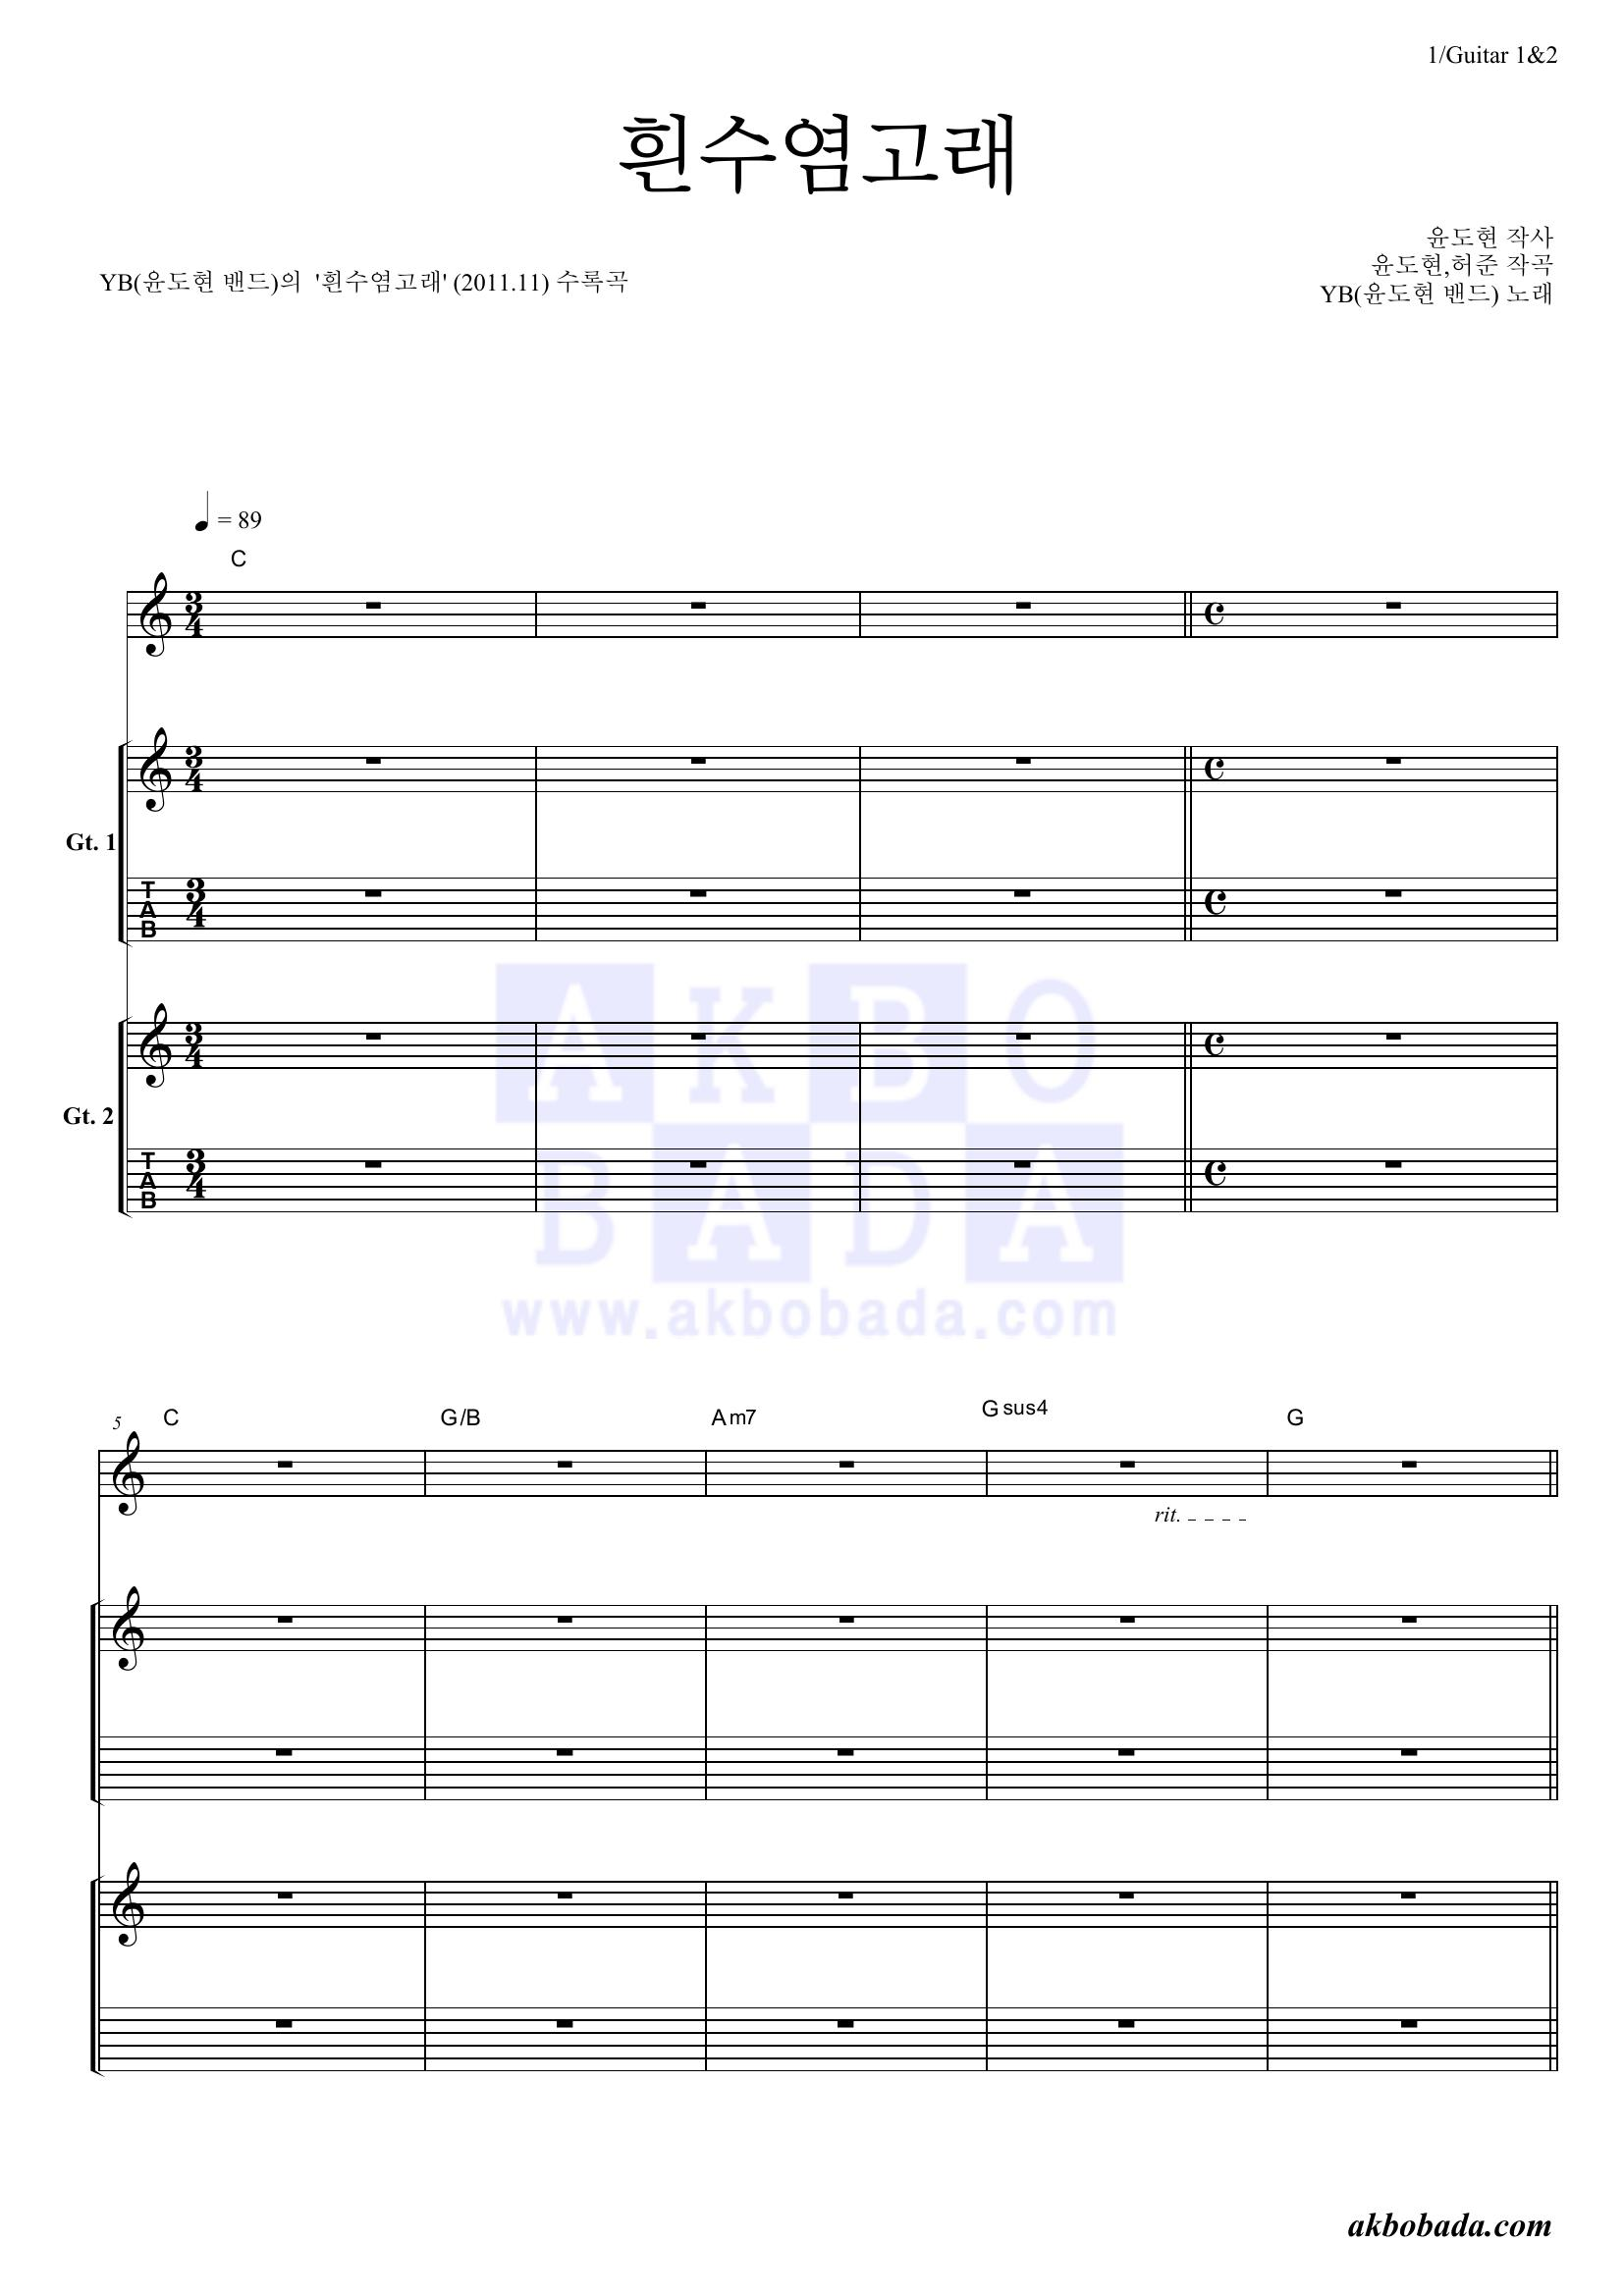four: (195, 490, 211, 531)
four_shim: (1016, 603, 1032, 611), (367, 603, 380, 610), (692, 603, 707, 608)
high: (139, 727, 172, 813), (141, 1005, 174, 1089), (142, 573, 174, 659)
low: (1204, 754, 1227, 782), (1204, 889, 1227, 917), (1204, 601, 1225, 629), (1204, 1161, 1227, 1186), (1204, 1033, 1225, 1058)
